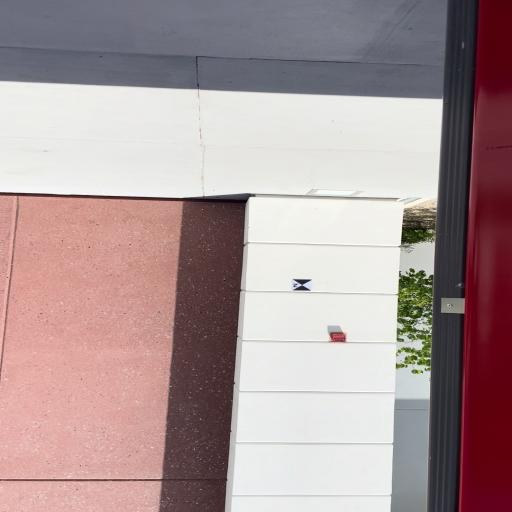target2: (292, 278, 314, 291)
